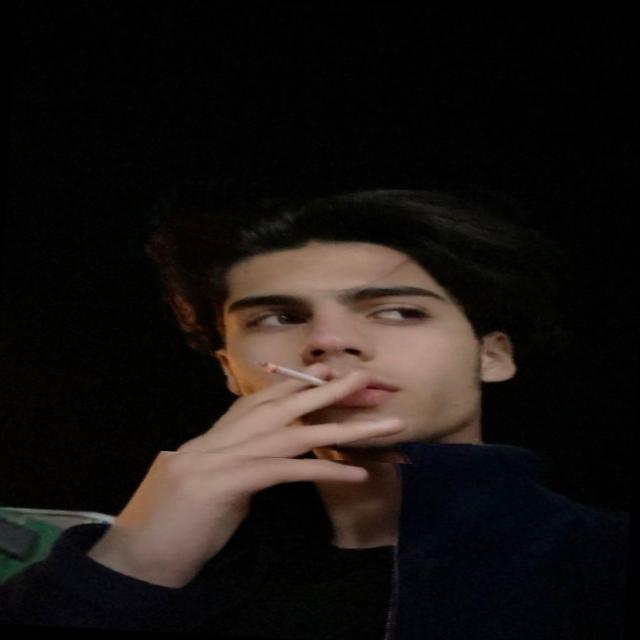cigarette: (238, 350, 338, 393)
